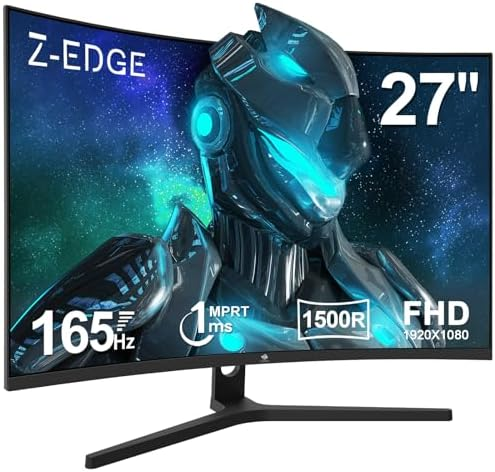Videoprojecteur: (236, 228, 397, 357)
